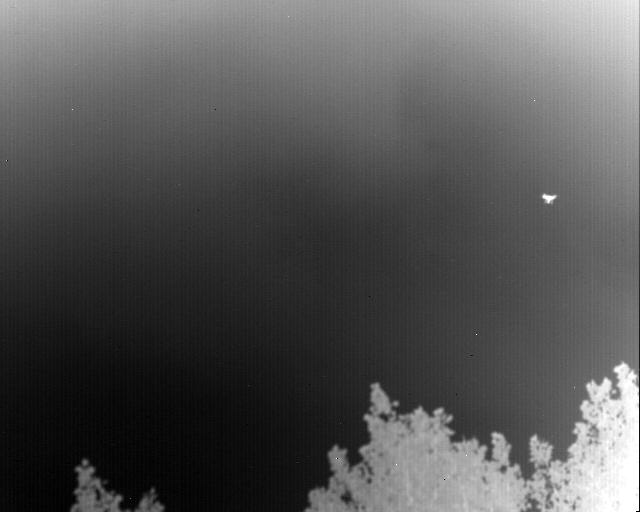plane: (542, 192, 558, 203)
